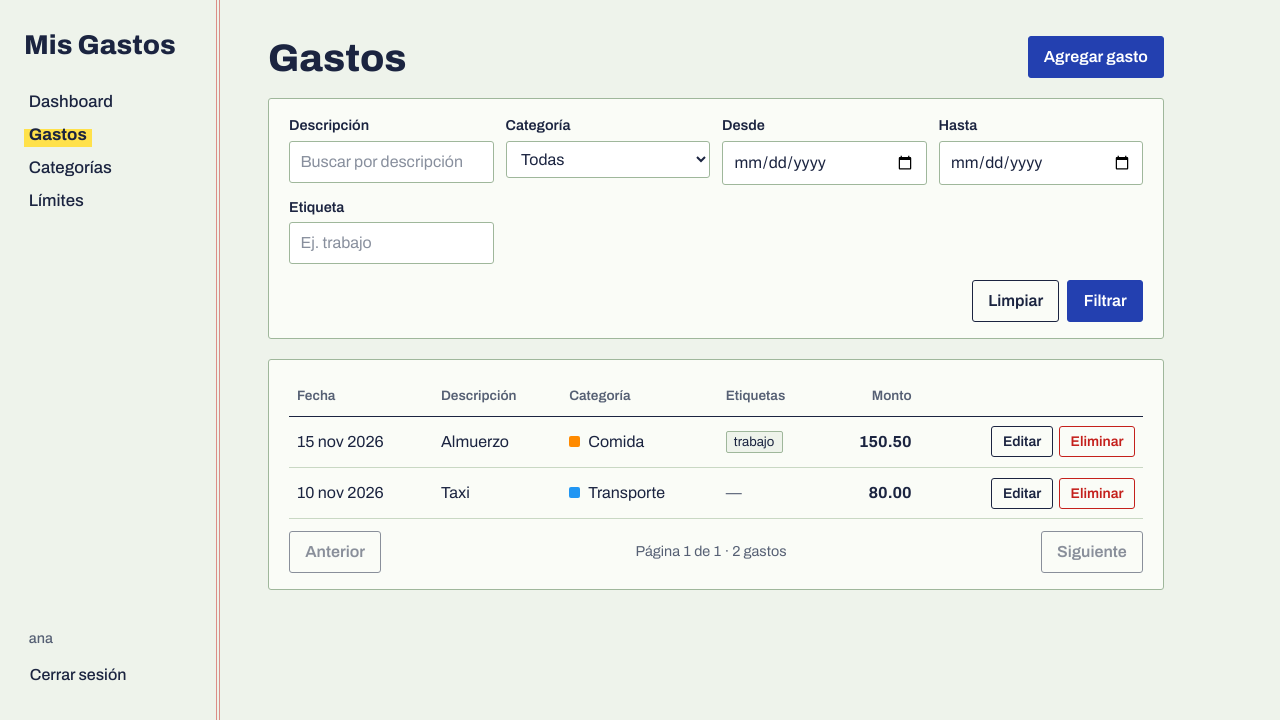
Modal in gastos: editar gasto while its request is in flight › closes on its own when the request succeeds
What coordinates should you click on to do the following:
click the button with aria-label "Editar Almuerzo"
I would click on:
 (1022, 442)
Its box is [992,426,1053,457].
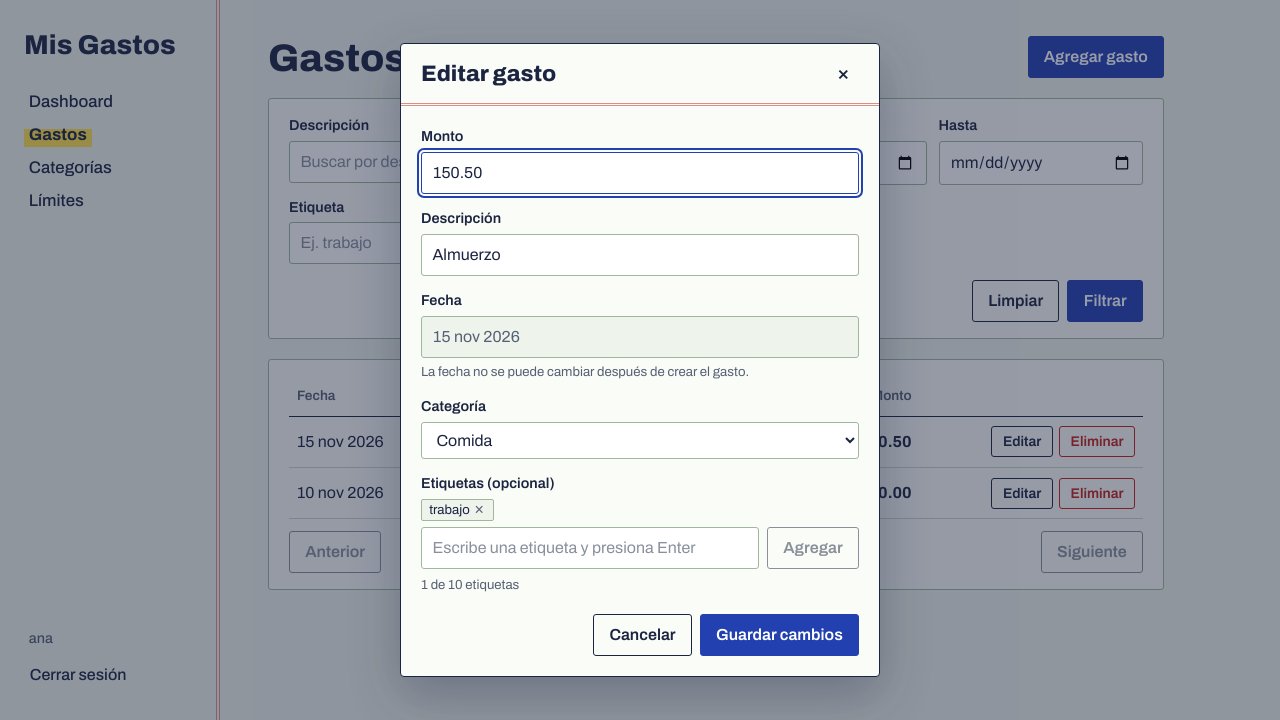
What coordinates should you click on to do the following:
click the button "Guardar cambios"
I would click on:
 (779, 635)
Its box is [700,614,859,656].
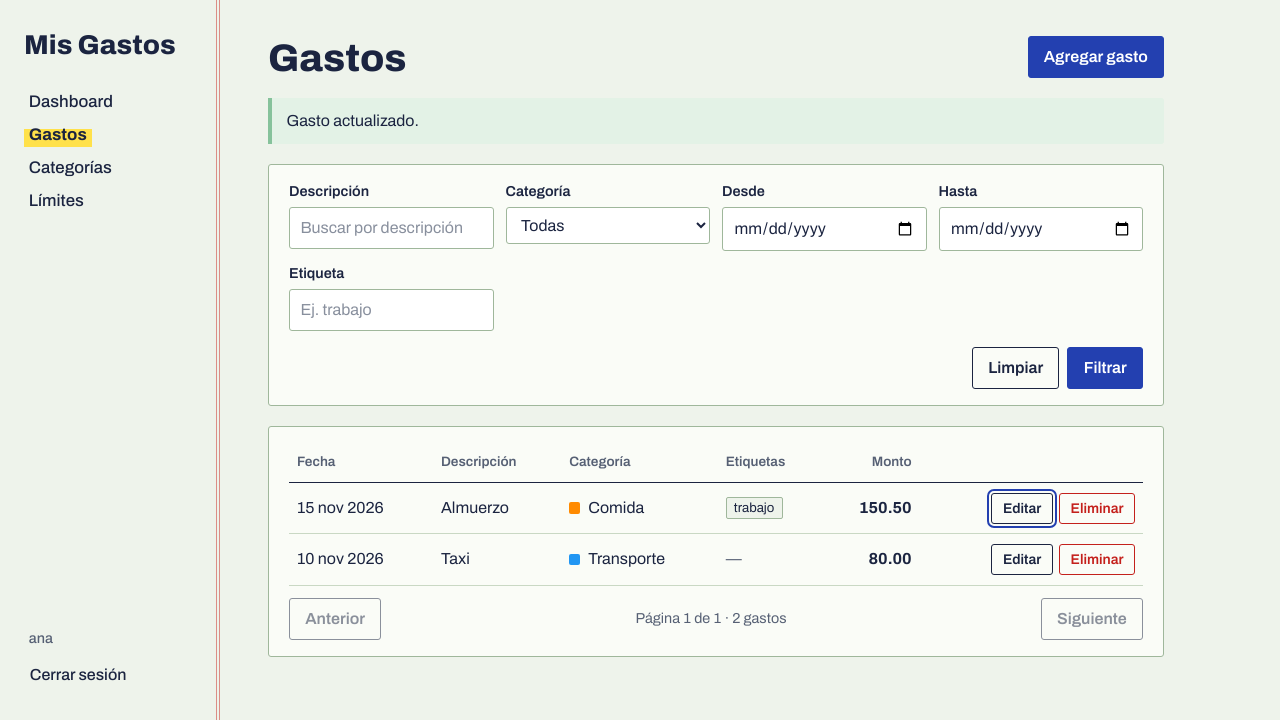
Check: the dialog is gone
